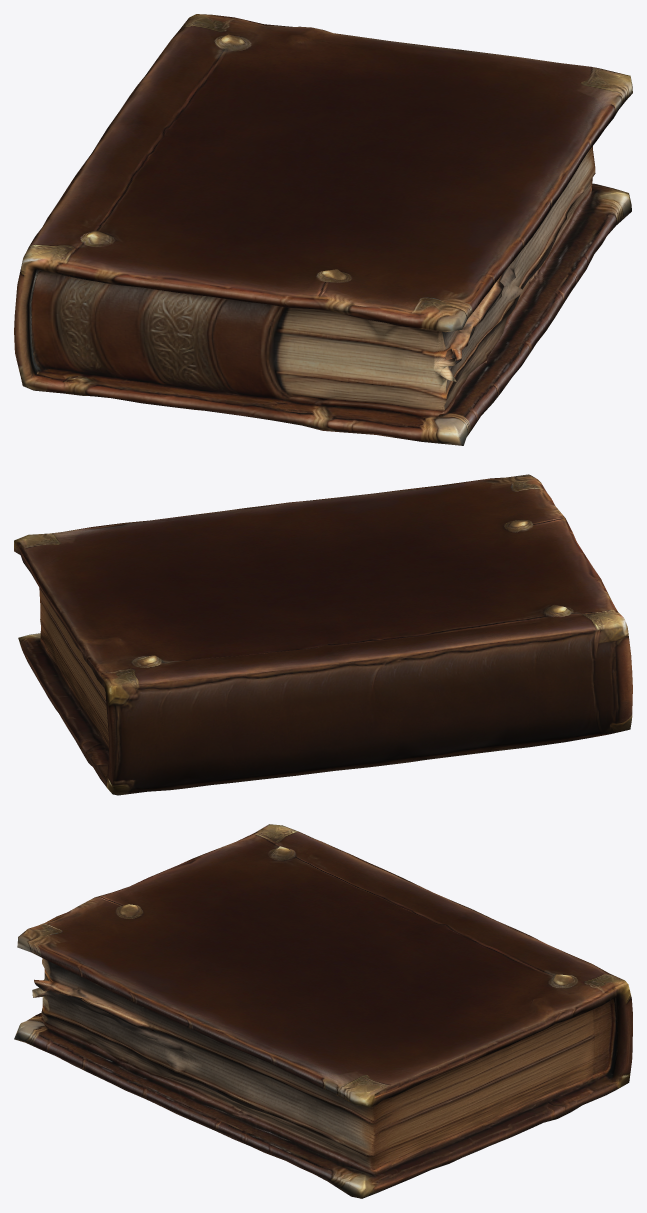
The model's file is old_book.glb.
3 views of the same model, one above another, from view 1: azimuth 30°, elevation 25°; view 2: azimuth 150°, elevation 25°; view 3: azimuth 270°, elevation 25° (orthographic). The views are drawn at different scales.
Size of the model in its own units: 2.01 by 0.4324 by 1.99.
1 material, 1 textured.
